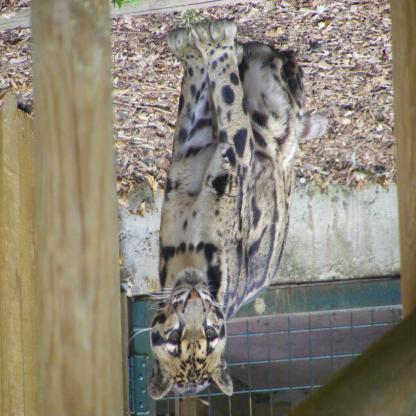leopard: (145, 267, 237, 411)
